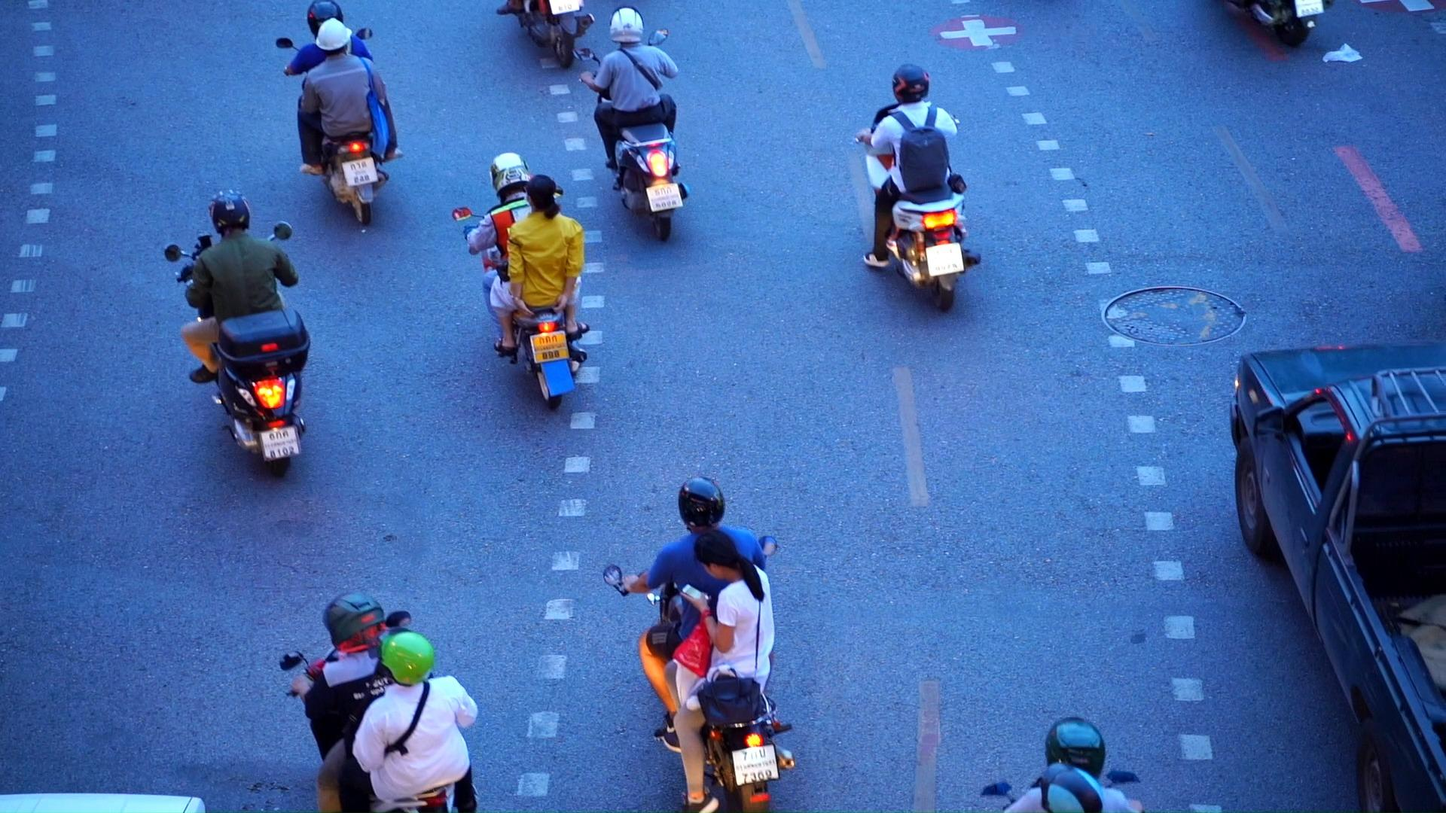driver: (604, 476, 795, 813), (280, 591, 480, 813), (165, 189, 312, 478), (451, 152, 591, 410), (849, 63, 981, 312), (276, 0, 404, 225), (571, 4, 691, 241), (979, 715, 1145, 813), (496, 0, 596, 68)
helmet: (368, 626, 436, 688), (1045, 716, 1106, 781), (323, 591, 385, 654), (1041, 761, 1103, 813), (678, 476, 725, 528), (489, 152, 530, 199), (208, 189, 250, 233), (892, 63, 930, 105), (315, 17, 353, 58), (307, 0, 344, 40), (609, 4, 643, 43)
no-helmet: (694, 530, 763, 583), (524, 174, 560, 221)
